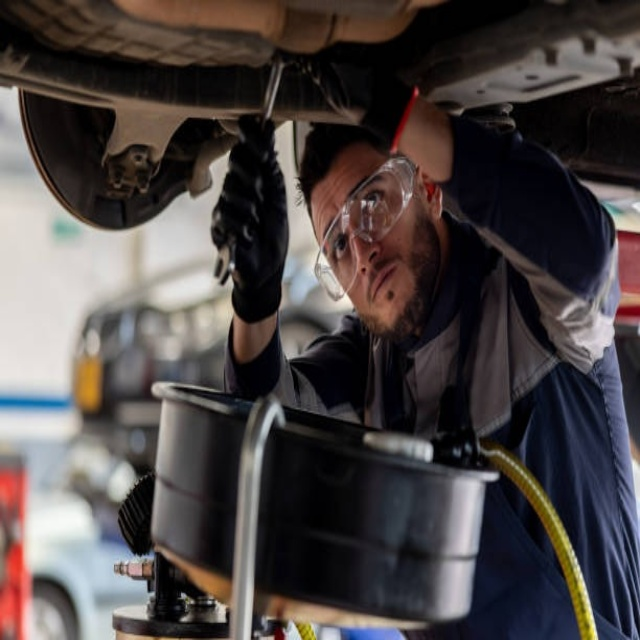Gafas: (317, 156, 421, 303)
Guantes: (213, 116, 289, 322), (299, 57, 419, 147)
Sin_mascara: (366, 253, 413, 328)
